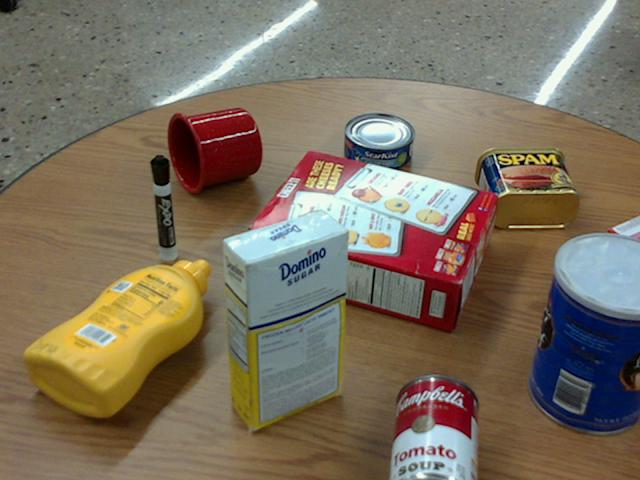cracker_box: (249, 150, 494, 326)
gelatin_box: (592, 214, 639, 297)
large_marker: (150, 154, 175, 259)
master_chef_can: (528, 232, 639, 433)
mug: (166, 106, 261, 193)
mustard_bottle: (26, 259, 209, 415)
potted_meat_can: (476, 146, 579, 227)
sugar_box: (222, 211, 347, 428)
tomato_soup_can: (391, 374, 478, 479)
tuna_fish_can: (344, 112, 414, 169)
